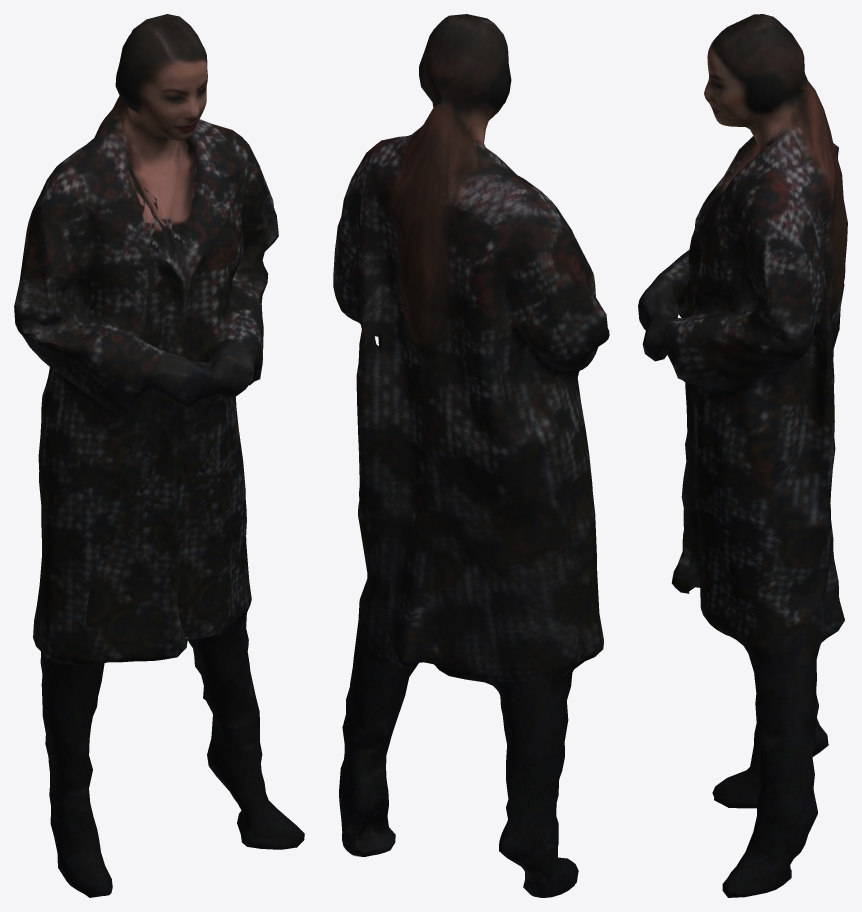
Rendered from evercoast.0024.gltf.
3 renders of one model, left to right at view 1: azimuth 30°, elevation 25°; view 2: azimuth 150°, elevation 25°; view 3: azimuth 270°, elevation 25°, orthographic. The views are drawn at different scales.
Parts seen in each view (by area): view 1: HIGH; view 2: HIGH; view 3: HIGH.
Part boxes in pixels (x1=…): HIGH: x1=14, y1=14, x2=304, y2=897; HIGH: x1=333, y1=14, x2=609, y2=897; HIGH: x1=638, y1=14, x2=847, y2=897.
Bounding box in the file's own units: 0.6136 × 1.83 × 0.4232.
Materials: 1 (1 with a texture image).
